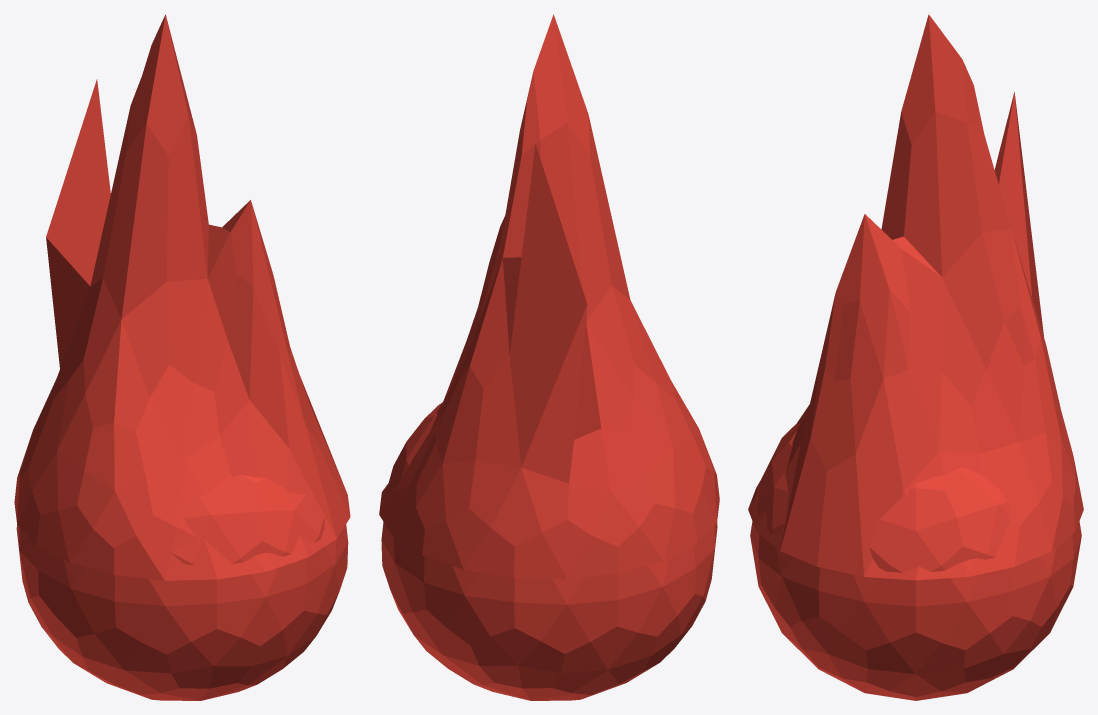
File: fire.glb
The picture shows the model from 3 angles, left to right: view 1: azimuth 30°, elevation 25°; view 2: azimuth 150°, elevation 25°; view 3: azimuth 270°, elevation 25°; orthographic projection. The views are drawn at different scales.
Parts seen in each view (by area): view 1: Icosphere.002; view 2: Icosphere.002; view 3: Icosphere.002.
Boxes of the visible parts, x1,y1,x2,y2 form: Icosphere.002: (14, 14, 350, 700); Icosphere.002: (379, 14, 719, 700); Icosphere.002: (748, 14, 1083, 700).
Size of the model in its own units: 1.87 by 4.11 by 1.87.
